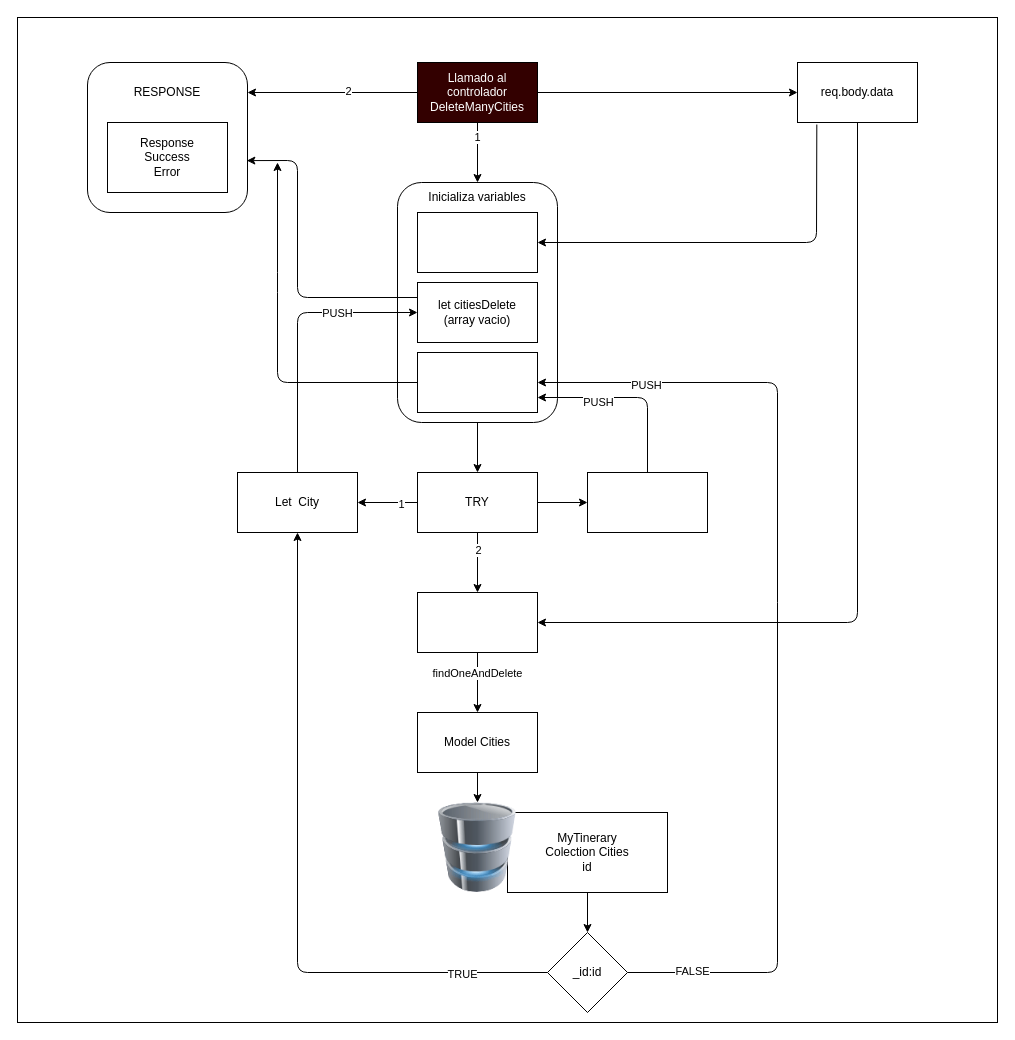
The diagram is 1015 pixels wide and 1040 high, and some of its shapes have lost their labels. The centre of each missing label's shape, as x and y in pixels:
CATCH: the point at 647,502
const data: the point at 477,242
For (let id of data): the point at 477,622
let error (array vacio): the point at 477,382
